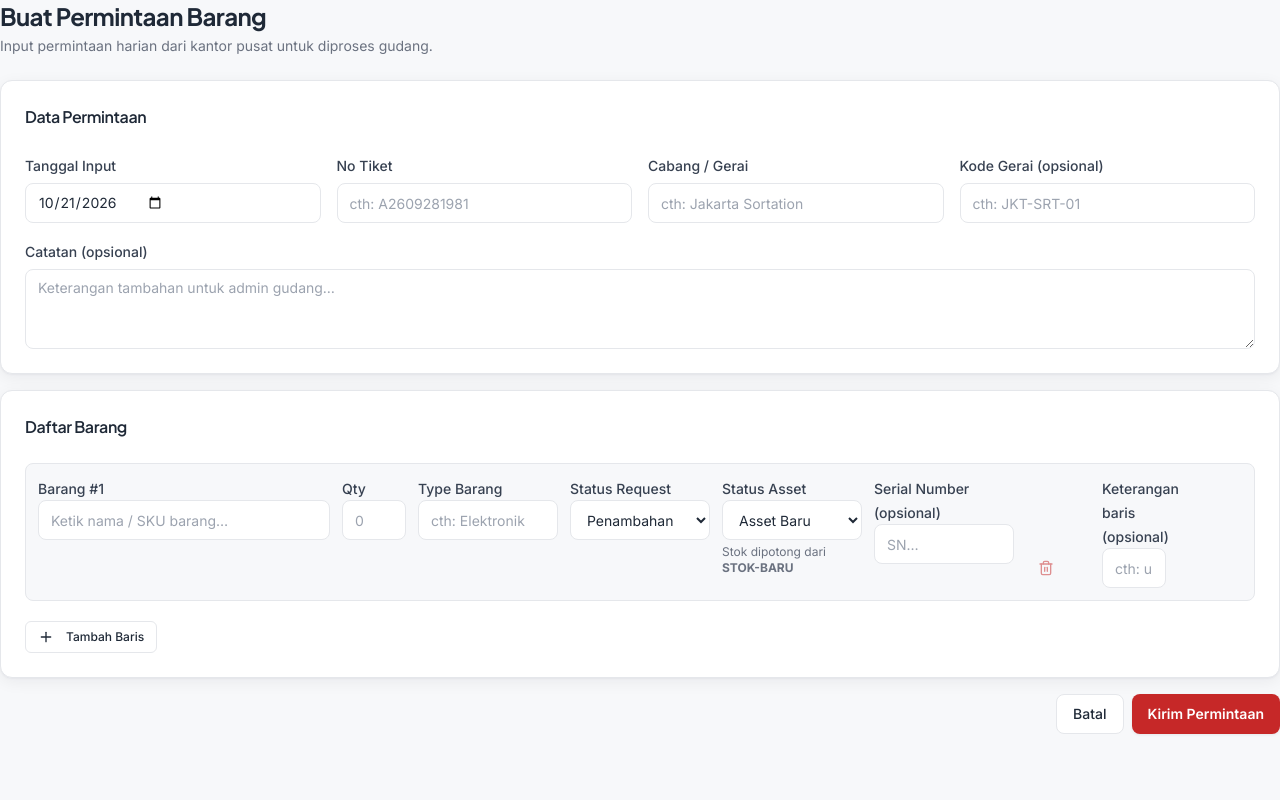
Test: Dropdown Status Request & Status Asset › kolom Durasi Pinjam hanya muncul saat Status Request = Pinjam
The image size is (1280, 800).
expect the text "Durasi Pinjam" is not shown: met
Select "Pinjam" in the dropdown labelled "Status Request" at [640, 520], box [570,500,710,540]
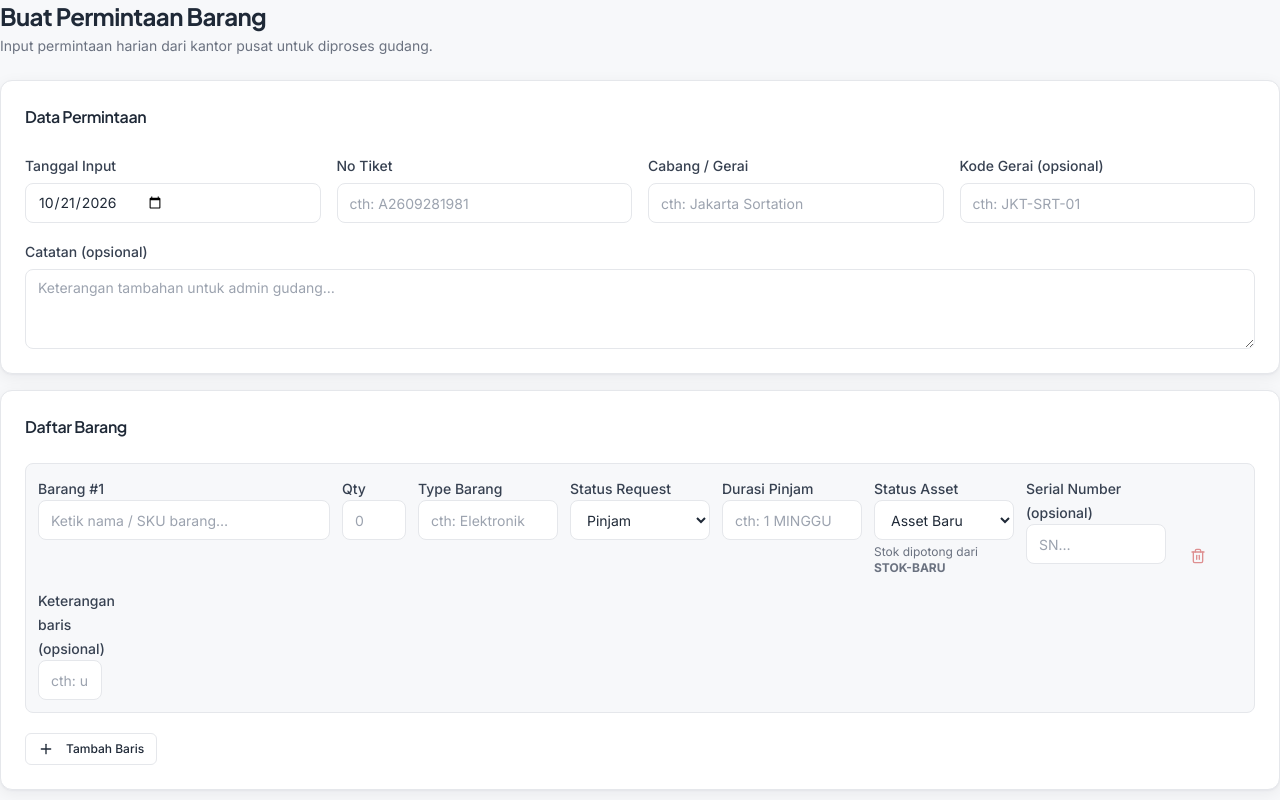
expect the text "Durasi Pinjam" is shown: met, box [722,480,814,497]
